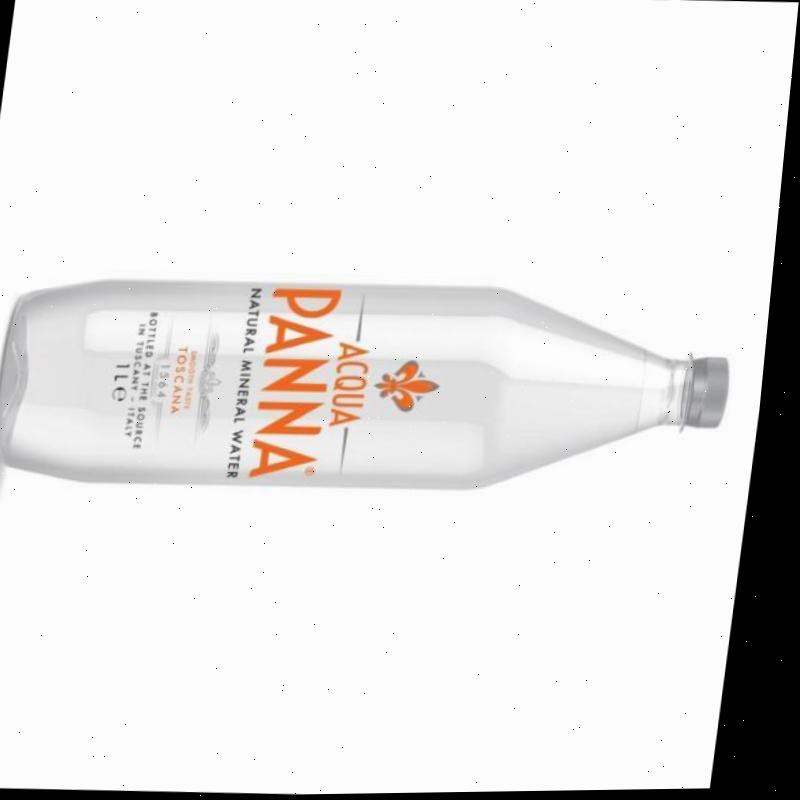botella: (0, 266, 750, 506)
